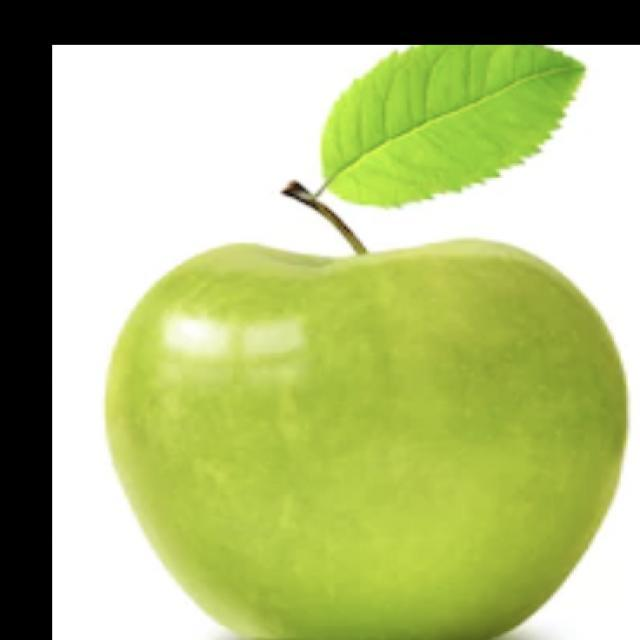Fresh Apple: (100, 234, 629, 640)
